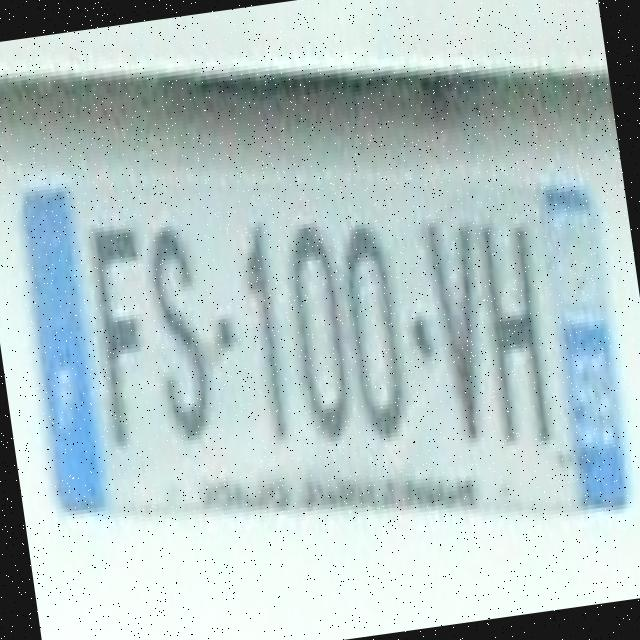EU: (9, 104, 640, 612)
France: (16, 191, 110, 511)
